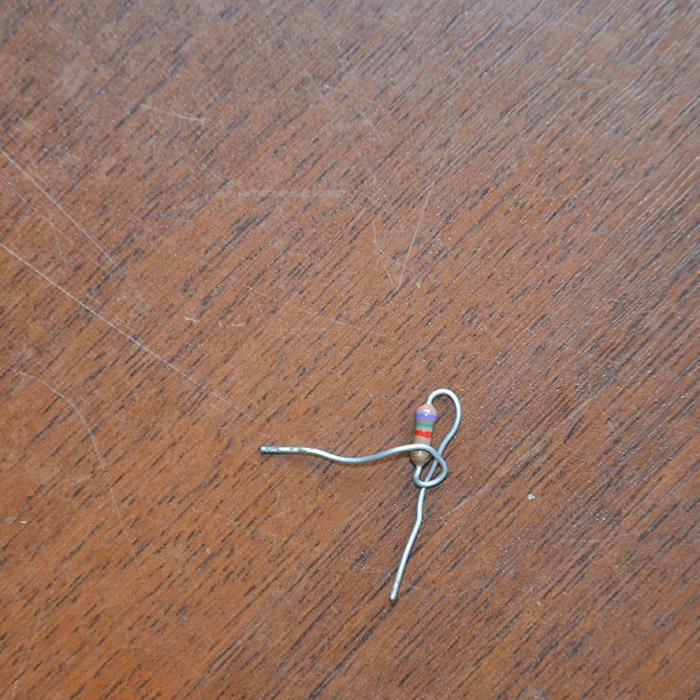resistor: (410, 401, 438, 465)
